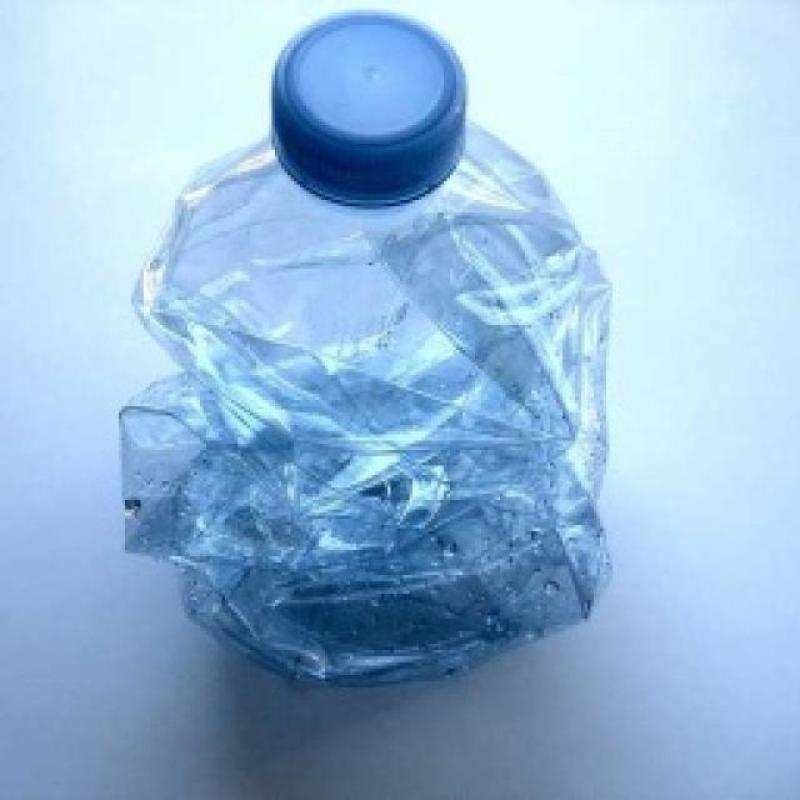botella: (118, 15, 612, 700)
